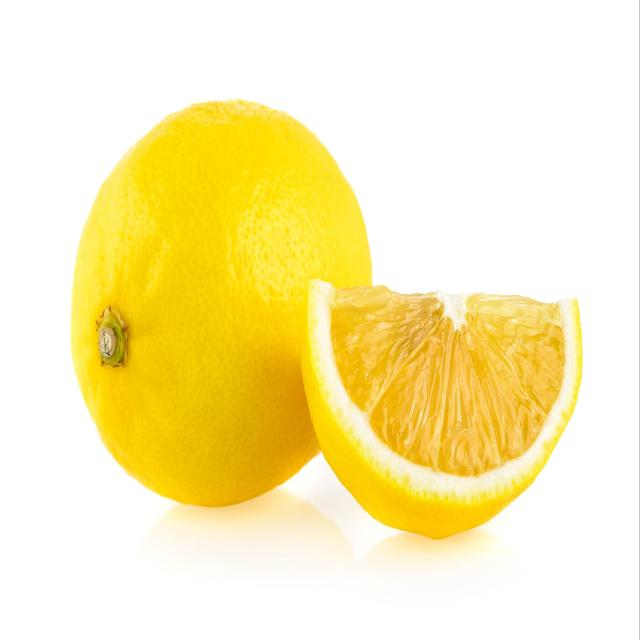lemon: (67, 92, 379, 515)
